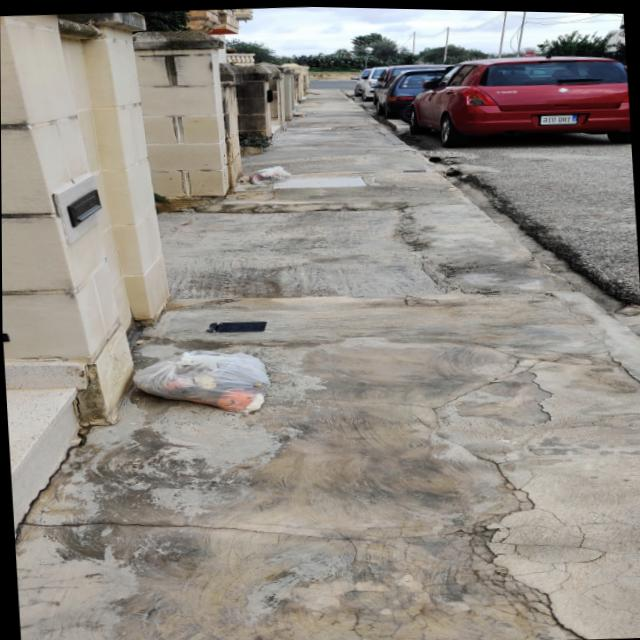Organic Waste -White Bags-: (131, 348, 272, 412), (248, 165, 291, 184), (292, 111, 307, 116)
